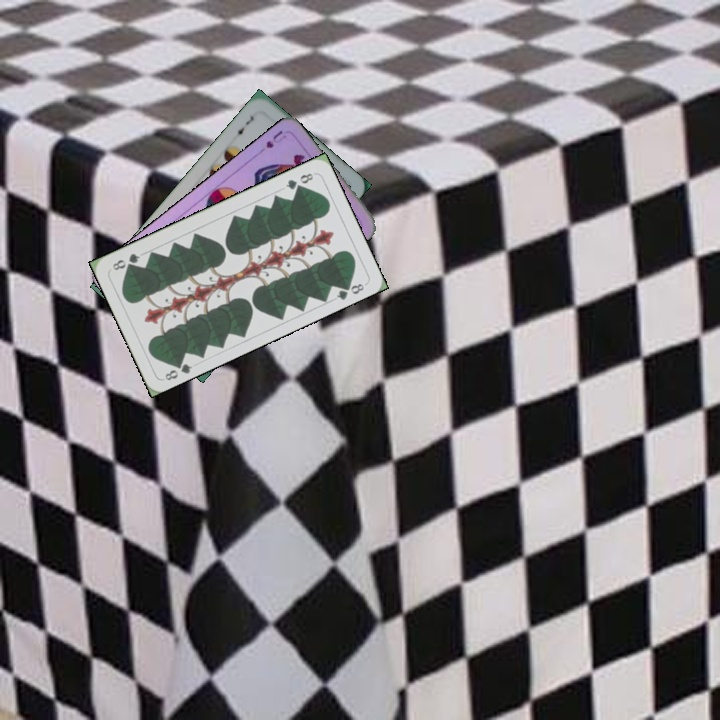E7: (230, 112, 257, 140)
G8: (161, 356, 195, 383), (281, 169, 316, 192)
SU: (252, 127, 289, 158)
